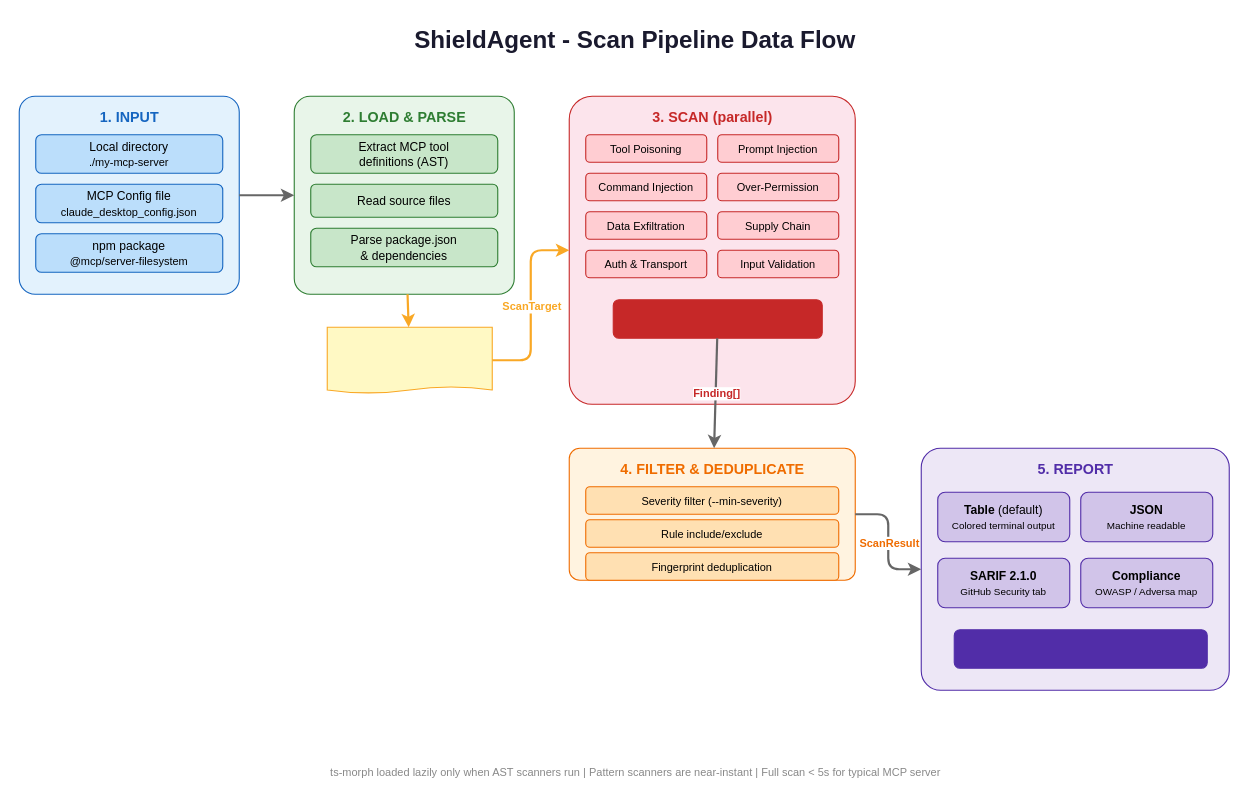
Image size: 1249x798. Some labels were removed from this diagram. The shapes that lost their labels are listed below. From the top down, each one's box as (x1, y1, x2, y2) in pixels, then its label:
(612, 299, 822, 338): Promise.allSettled() Graceful degradation
(326, 326, 492, 393): ScanTarget { tools[], sourceFiles[], packageJson, path }
(953, 629, 1207, 668): Exit Code 0 = clean | 1 = findings | 2 = error
